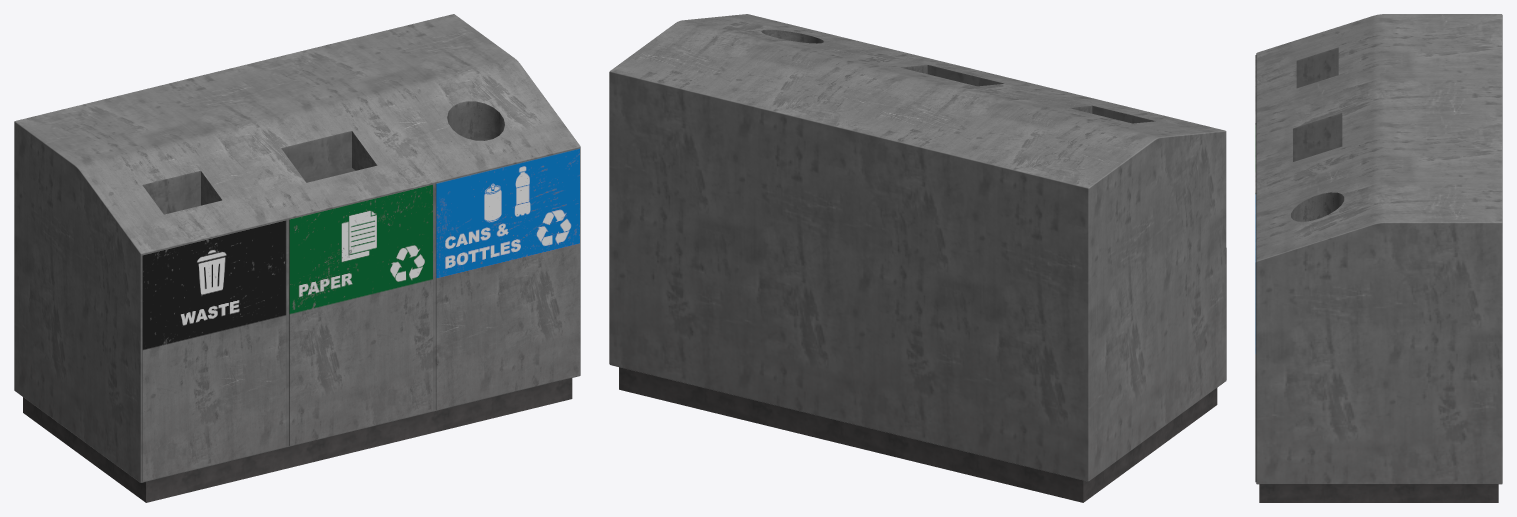
Rendered from triple_recycling_bin.obj.
The picture shows the model from 3 angles, left to right: view 1: azimuth 30°, elevation 25°; view 2: azimuth 150°, elevation 25°; view 3: azimuth 270°, elevation 25°; orthographic projection. The views are drawn at different scales.
Visible parts, largest first — view 1: Triple_Recycling_Bin; view 2: Triple_Recycling_Bin; view 3: Triple_Recycling_Bin.
Boxes of the visible parts, x1,y1,x2,y2 form: Triple_Recycling_Bin: (14,14,580,502); Triple_Recycling_Bin: (609,14,1226,502); Triple_Recycling_Bin: (1255,14,1502,502).
Bounding box in the file's own units: 2.07 × 1.31 × 1.03.
1 material, 1 textured.
